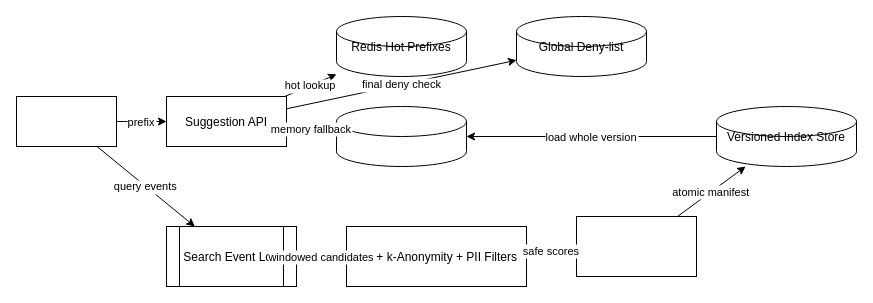
Some shapes in this 873 by 303 pixel diagram are drawn without their labels. The centre of each missing label's shape, as x and y in pixels:
"In-memory FST" goes at point (401, 136).
"Index Builder" goes at point (636, 246).
"Клиент" goes at point (66, 121).
